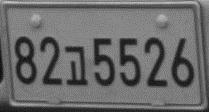2: (37, 34, 64, 86), (143, 35, 168, 88)
5: (92, 36, 116, 86), (118, 36, 141, 88)
6: (169, 36, 194, 89)
8: (12, 34, 39, 85)
고: (64, 44, 89, 86)
